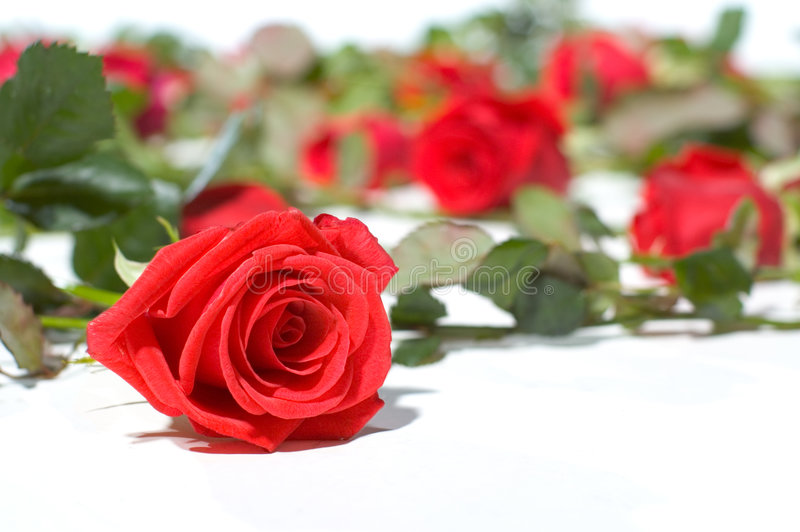RedRose: (100, 179, 406, 457)
